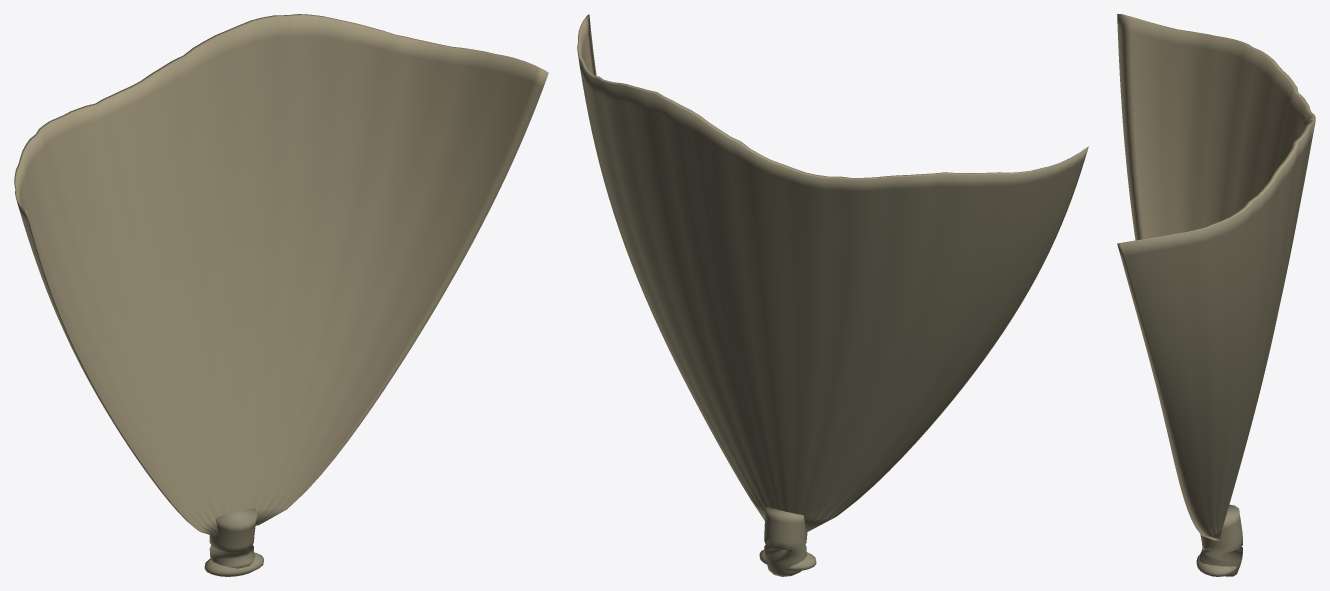
The model's file is hazelia.glb.
The picture shows the model from 3 angles, left to right: view 1: azimuth 30°, elevation 25°; view 2: azimuth 150°, elevation 25°; view 3: azimuth 270°, elevation 25°; orthographic projection. The views are drawn at different scales.
Parts seen in each view (by area): view 1: thin-cupped-shield-inner-outer-wall, small-organic-attachment-base; view 2: thin-cupped-shield-inner-outer-wall, small-organic-attachment-base; view 3: thin-cupped-shield-inner-outer-wall, small-organic-attachment-base.
Boxes of the visible parts, bbox=[...] form: thin-cupped-shield-inner-outer-wall: bbox=[14, 14, 548, 535]; small-organic-attachment-base: bbox=[204, 508, 263, 576]; thin-cupped-shield-inner-outer-wall: bbox=[577, 14, 1088, 531]; small-organic-attachment-base: bbox=[759, 506, 816, 576]; thin-cupped-shield-inner-outer-wall: bbox=[1117, 14, 1315, 540]; small-organic-attachment-base: bbox=[1196, 504, 1242, 576].
Size of the model in its own units: 0.13 by 0.1201 by 0.0456.
